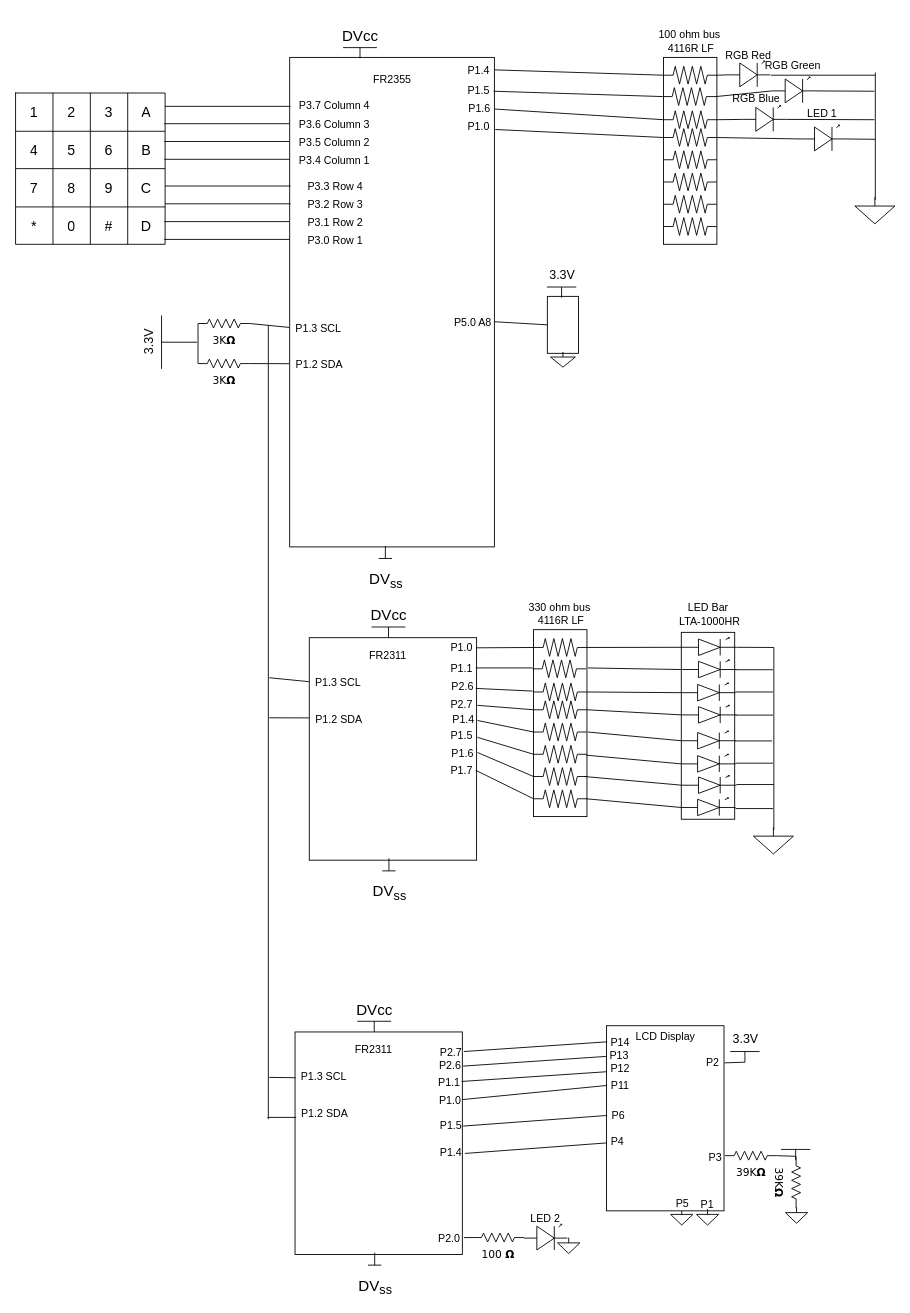
Image size: 910x1313. Some labels were removed from this diagram. The shapes that lost their labels are listed below. From the top down, each one's centre as x and y in pixels, then its label:
point 562,324: LM19
point 795,1154: -3.3V
